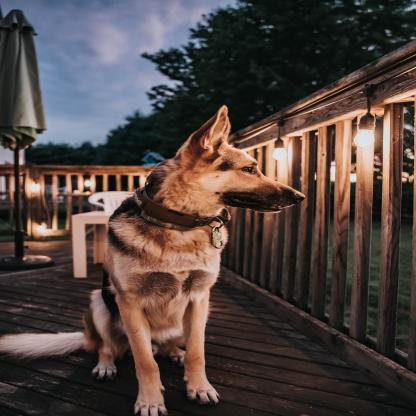dog: (84, 101, 309, 416)
